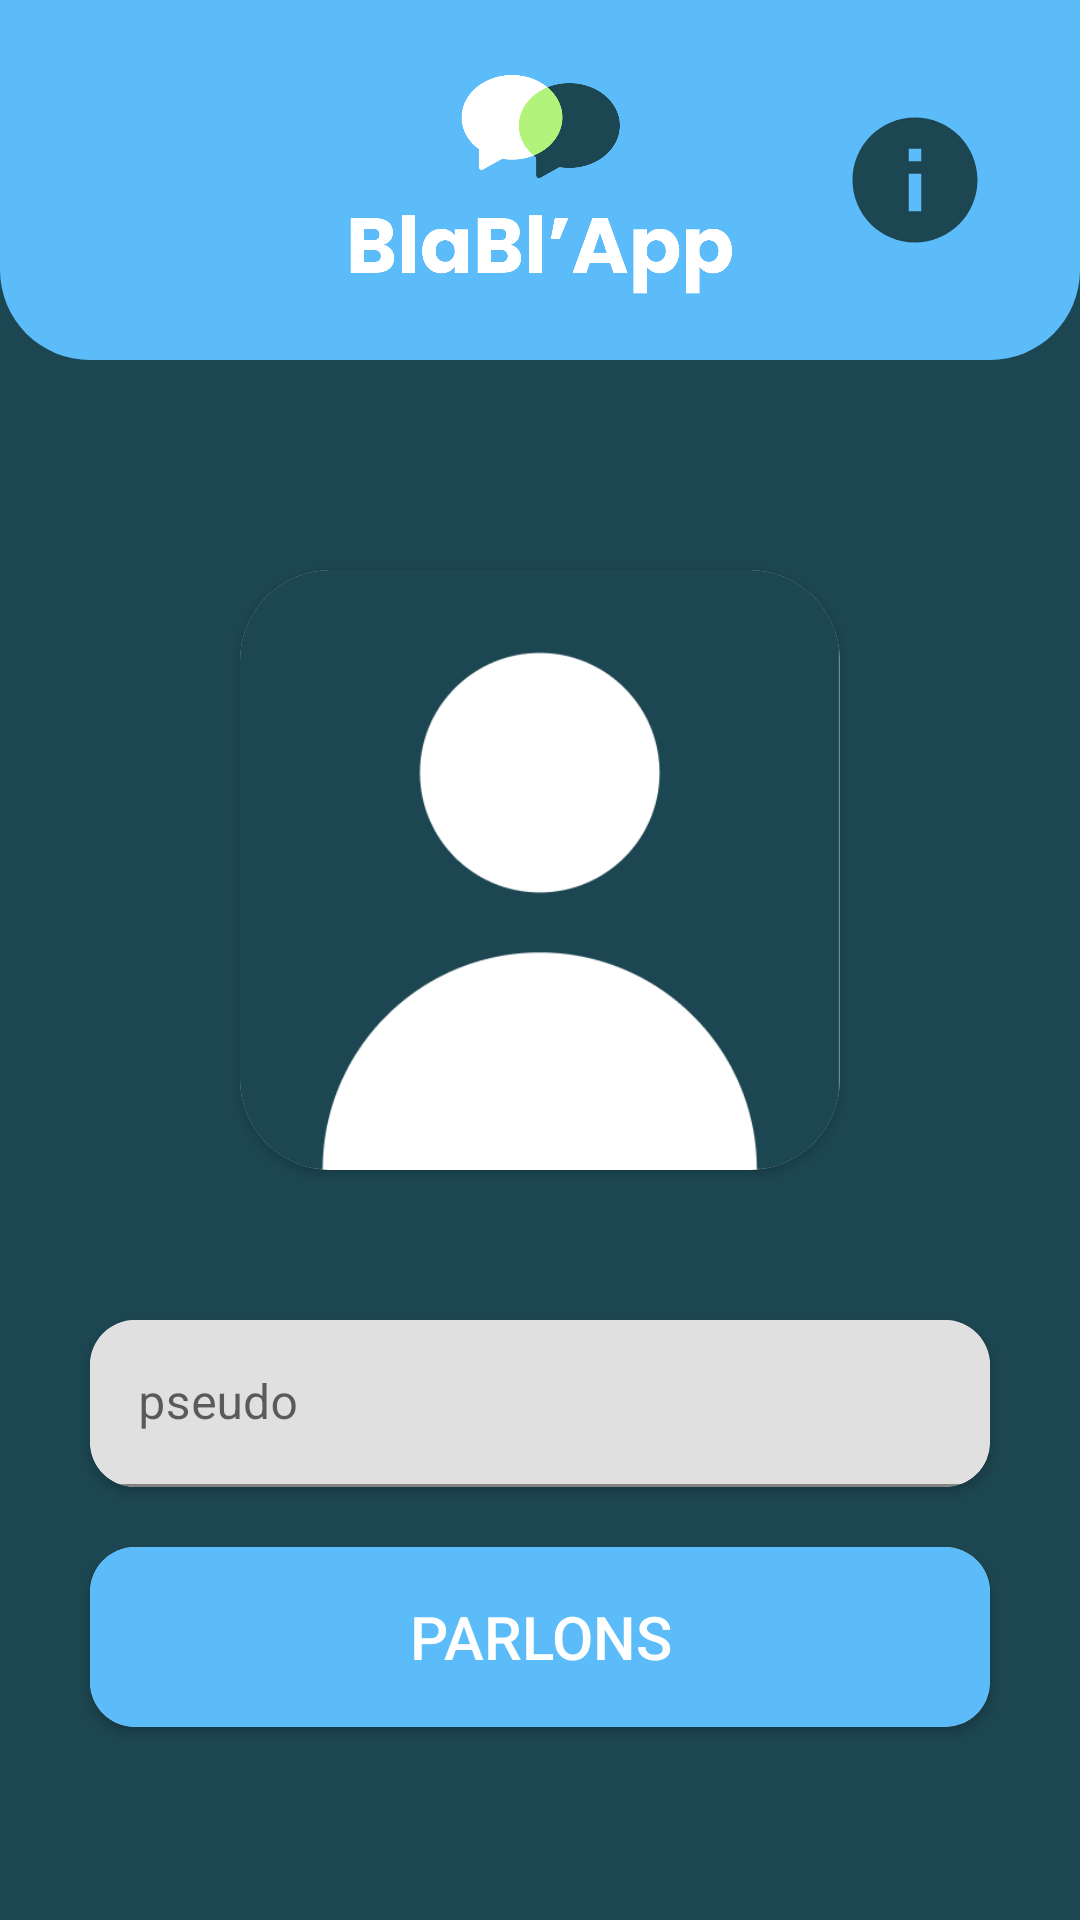

Named icons in this screenshot (1080 × 1920) and their bounding boxes, (x1, y1, x2, y2):
info plus: (852, 117, 978, 243)
